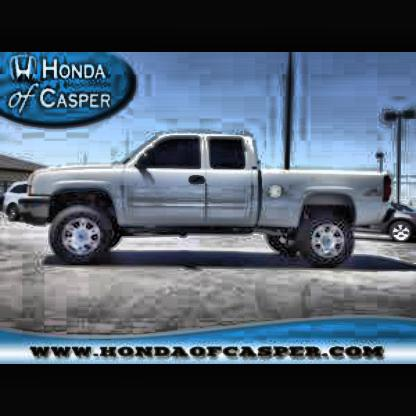Chevrolet Silverado 1500 Classic Extended Cab 2007: (8, 137, 396, 268)
